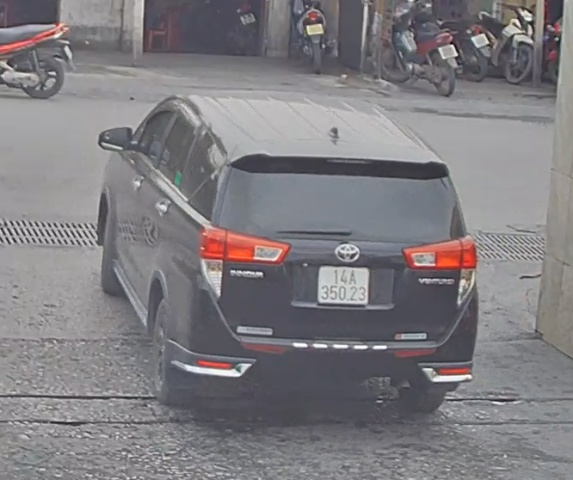vehicle plate: (314, 262, 371, 304)
